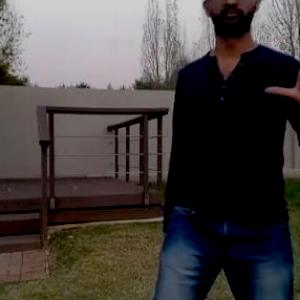land_hand: (261, 27, 299, 117)
